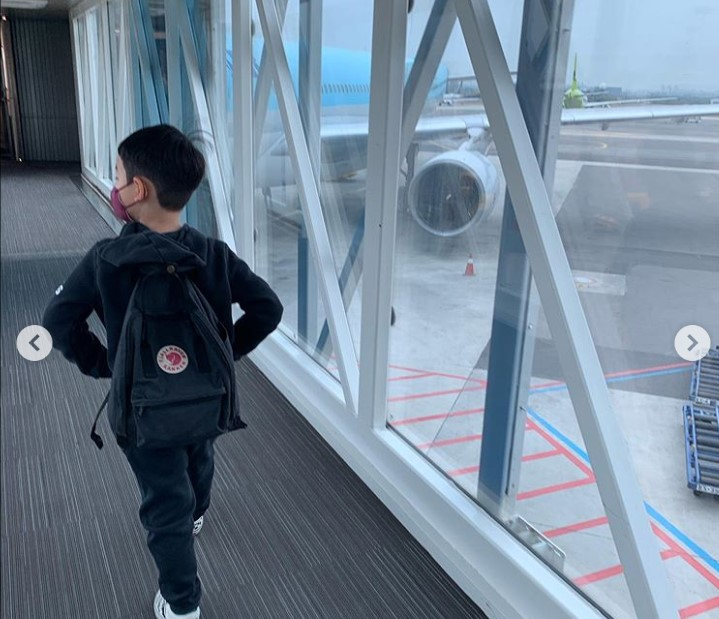face_with_mask: (100, 124, 203, 229)
